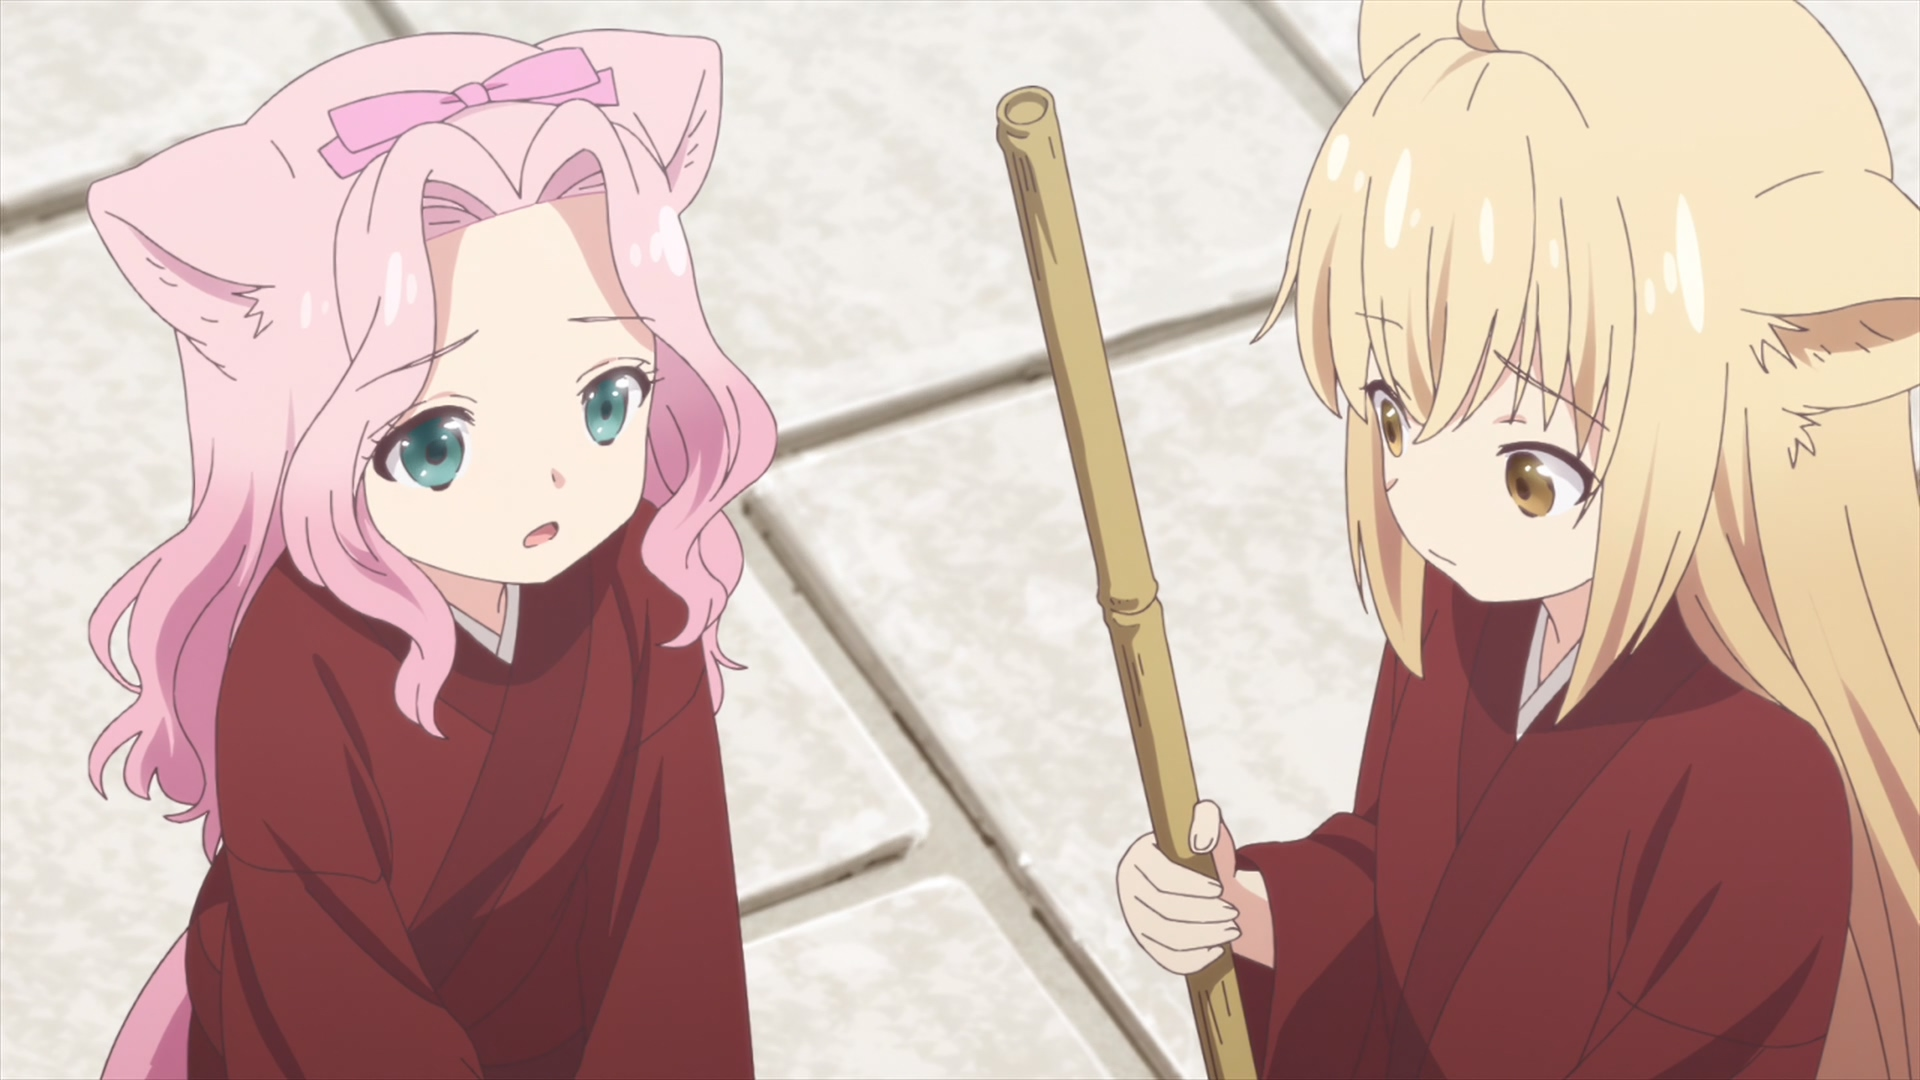柚: (1116, 1, 1920, 1080)
莲: (87, 28, 778, 1080)
